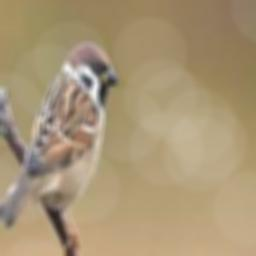Sparrow: (0, 42, 118, 256)
